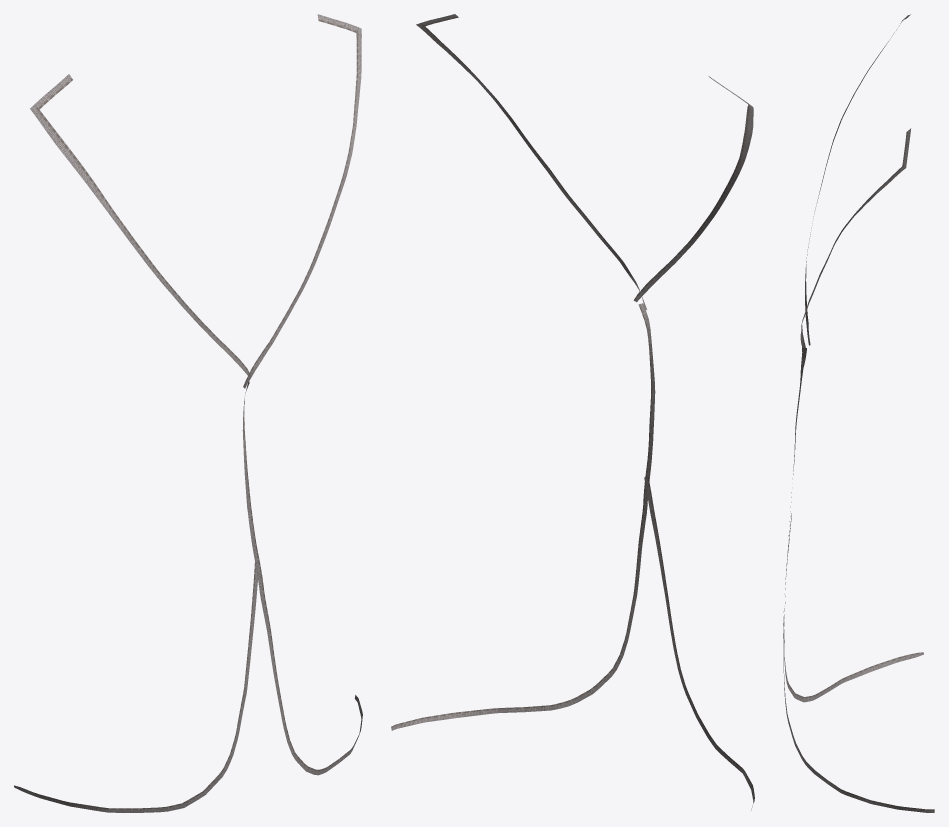
Rendered from notch_double_button_wide_AMF 6mm.glb.
3 views of the same model, side by side, from view 1: azimuth 30°, elevation 25°; view 2: azimuth 150°, elevation 25°; view 3: azimuth 270°, elevation 25° (orthographic). The views are drawn at different scales.
Visible parts, largest first — view 1: notch_double_button_wide_AMF1; view 2: notch_double_button_wide_AMF1; view 3: notch_double_button_wide_AMF1.
Boxes of the visible parts, box(x1,y1,x2,y2) form: notch_double_button_wide_AMF1: box(14, 14, 362, 812); notch_double_button_wide_AMF1: box(391, 14, 754, 810); notch_double_button_wide_AMF1: box(783, 14, 934, 812).
Bounding box in the file's own units: 0.0474 × 0.0929 × 0.0191.
Materials: 1 (1 with a texture image).
